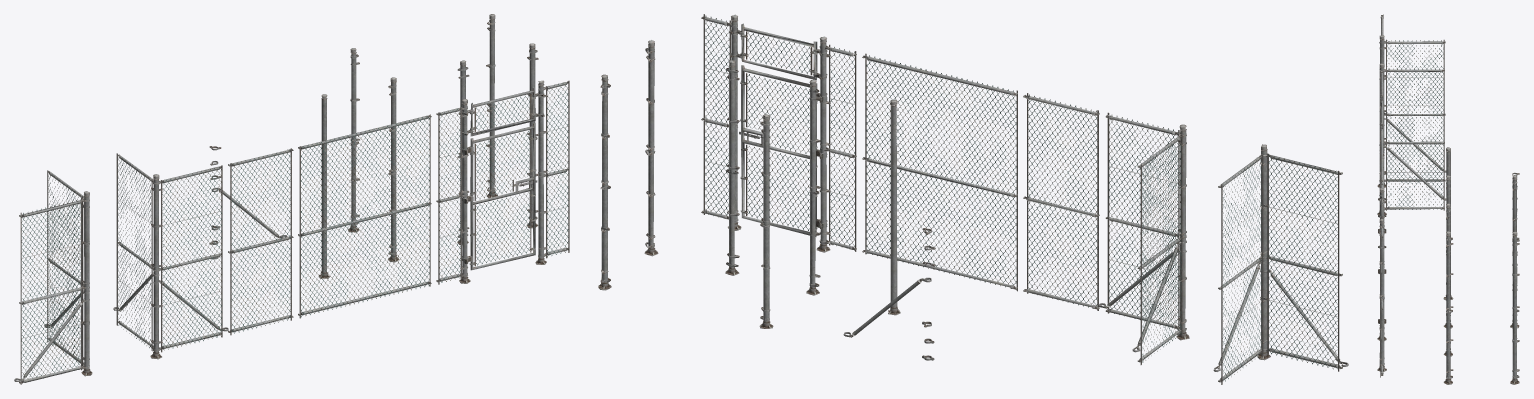
File: fence.glb
3 renders of one model, left to right at view 1: azimuth 30°, elevation 25°; view 2: azimuth 150°, elevation 25°; view 3: azimuth 270°, elevation 25°, orthographic. The views are drawn at different scales.
Parts seen in each view (by area): view 1: modular_chainlink_fence_double, modular_chainlink_fence_corner_outer, modular_chainlink_fence_corner_inner, modular_chainlink_fence_door_frame, modular_chainlink_fence, modular_chainlink_fence_door_gate, modular_chainlink_fence_start_01_corner_02, modular_chainlink_fence_end_01, modular_chainlink_fence_end_02, modular_chainlink_fence_post, modular_chainlink_fence_start_01_corner_01, modular_chainlink_post_middle; view 2: modular_chainlink_fence_double, modular_chainlink_fence_corner_inner, modular_chainlink_fence_corner_outer, modular_chainlink_fence_door_frame, modular_chainlink_fence, modular_chainlink_fence_door_gate, modular_chainlink_fence_end_02, modular_chainlink_post_middle, modular_chainlink_fence_post, modular_chainlink_fence_start_01_corner_01, modular_chainlink_fence_end_01, modular_chainlink_fence_start_01_corner_02; view 3: modular_chainlink_fence_corner_outer, modular_chainlink_fence_corner_inner, modular_chainlink_fence_door_frame, modular_chainlink_fence_start_01_corner_02, modular_chainlink_fence_start_01_corner_01, modular_chainlink_fence_end_02, modular_chainlink_fence_post, modular_chainlink_fence_double, modular_chainlink_fence_end_01, modular_chainlink_post_middle.
Part boxes in pixels (x1=…): modular_chainlink_fence_double: x1=298, y1=114, x2=431, y2=318; modular_chainlink_fence_corner_outer: x1=113, y1=153, x2=228, y2=359; modular_chainlink_fence_corner_inner: x1=14, y1=170, x2=92, y2=384; modular_chainlink_fence_door_frame: x1=436, y1=80, x2=569, y2=284; modular_chainlink_fence: x1=228, y1=148, x2=293, y2=335; modular_chainlink_fence_door_gate: x1=469, y1=123, x2=536, y2=270; modular_chainlink_fence_start_01_corner_02: x1=486, y1=14, x2=497, y2=197; modular_chainlink_fence_end_01: x1=388, y1=77, x2=399, y2=262; modular_chainlink_fence_end_02: x1=348, y1=48, x2=359, y2=232; modular_chainlink_fence_post: x1=319, y1=94, x2=329, y2=278; modular_chainlink_fence_start_01_corner_01: x1=526, y1=43, x2=538, y2=228; modular_chainlink_post_middle: x1=457, y1=60, x2=469, y2=244; modular_chainlink_fence_double: x1=862, y1=53, x2=1017, y2=291; modular_chainlink_fence_corner_inner: x1=1213, y1=144, x2=1348, y2=384; modular_chainlink_fence_corner_outer: x1=1098, y1=112, x2=1189, y2=364; modular_chainlink_fence_door_frame: x1=701, y1=14, x2=856, y2=252; modular_chainlink_fence: x1=1023, y1=93, x2=1099, y2=310; modular_chainlink_fence_door_gate: x1=740, y1=65, x2=817, y2=236; modular_chainlink_fence_end_02: x1=759, y1=114, x2=773, y2=328; modular_chainlink_post_middle: x1=725, y1=60, x2=739, y2=275; modular_chainlink_fence_post: x1=888, y1=99, x2=900, y2=315; modular_chainlink_fence_start_01_corner_01: x1=644, y1=40, x2=658, y2=256; modular_chainlink_fence_end_01: x1=806, y1=79, x2=820, y2=295; modular_chainlink_fence_start_01_corner_02: x1=598, y1=74, x2=611, y2=290; modular_chainlink_fence_corner_outer: x1=1377, y1=63, x2=1446, y2=228; modular_chainlink_fence_corner_inner: x1=1377, y1=14, x2=1446, y2=187; modular_chainlink_fence_door_frame: x1=1377, y1=182, x2=1386, y2=377; modular_chainlink_fence_start_01_corner_02: x1=1510, y1=231, x2=1519, y2=384; modular_chainlink_fence_start_01_corner_01: x1=1443, y1=231, x2=1453, y2=384; modular_chainlink_fence_end_02: x1=1510, y1=175, x2=1519, y2=328; modular_chainlink_fence_post: x1=1443, y1=147, x2=1453, y2=300; modular_chainlink_fence_double: x1=1380, y1=126, x2=1383, y2=182; modular_chainlink_fence_end_01: x1=1443, y1=175, x2=1452, y2=328; modular_chainlink_post_middle: x1=1443, y1=203, x2=1452, y2=356.
Bounding box in the file's own units: 8.11 × 2.52 × 2.15.
2 materials, 2 textured.
